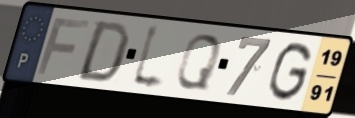7: (223, 34, 275, 98)
D: (73, 19, 133, 85)
F: (34, 16, 93, 77)
G: (266, 40, 315, 104)
L: (127, 21, 169, 95)
Q: (172, 32, 224, 92)
